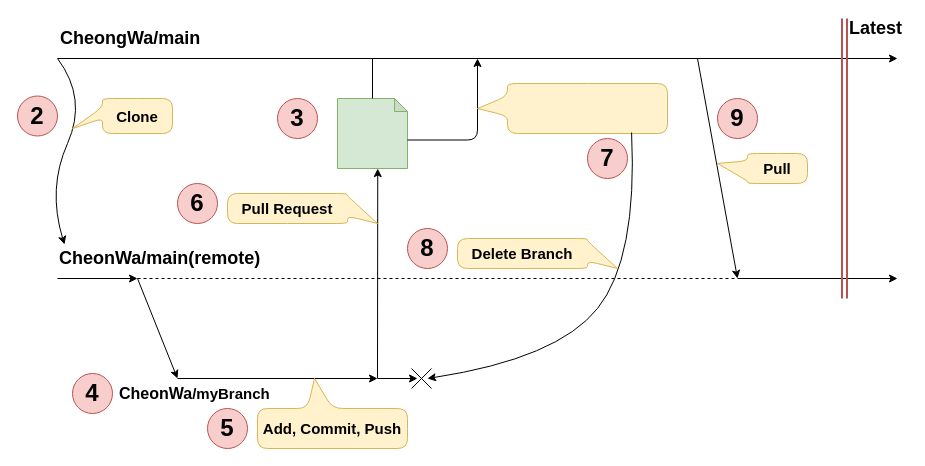
Some shapes in this 925 by 466 pixel diagram are drawn without their labels. The shapes that lost their labels are listed below. From the top down, each one's centre as x and y in pixels, then its label:
(x=572, y=108): Close Issue & Merge
(x=372, y=133): Issue #1
